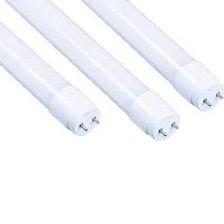light_bulb: (0, 0, 185, 143), (75, 0, 224, 112), (0, 9, 101, 140)
